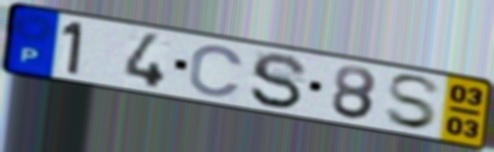1: (59, 20, 85, 78)
4: (122, 31, 169, 91)
8: (328, 64, 379, 122)
C: (185, 43, 247, 99)
S: (247, 51, 311, 111), (382, 72, 445, 131)
